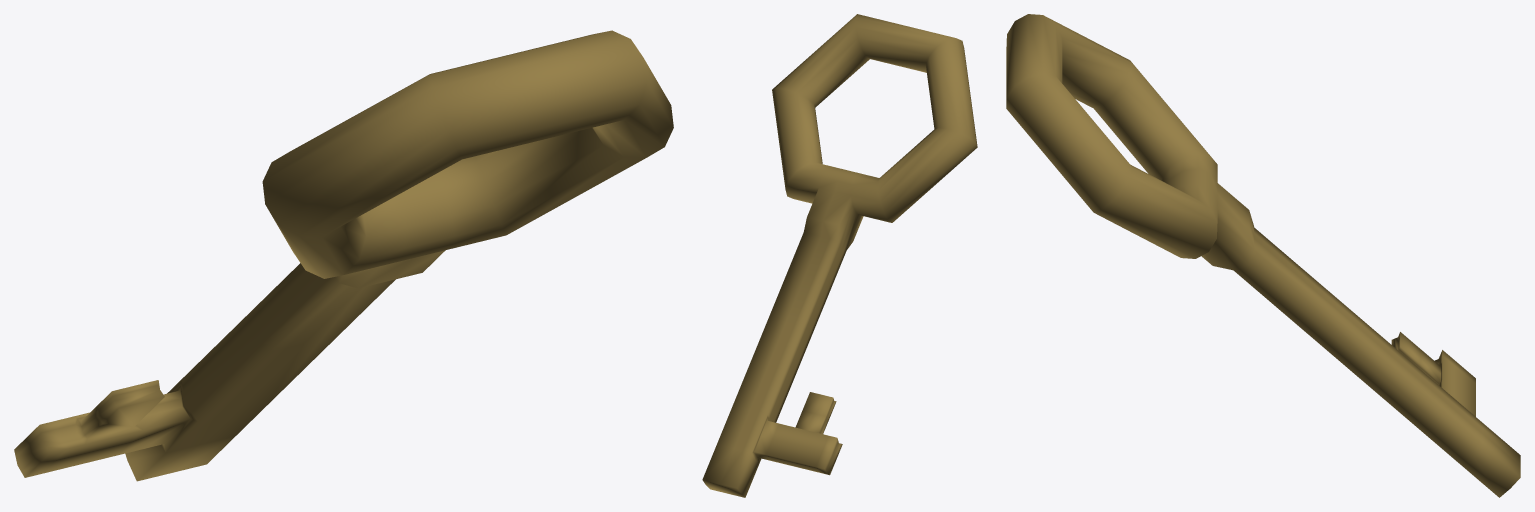
File: Key.glb
3 views of the same model, side by side, from view 1: azimuth 30°, elevation 25°; view 2: azimuth 150°, elevation 25°; view 3: azimuth 270°, elevation 25° (orthographic). The views are drawn at different scales.
Parts seen in each view (by area): view 1: Torus; view 2: Torus; view 3: Torus.
Boxes of the visible parts, left/top/right/bottom form: Torus: left=14, top=30, right=673, bottom=481; Torus: left=702, top=14, right=977, bottom=497; Torus: left=1006, top=14, right=1520, bottom=497.
Size of the model in its own units: 2.5 by 3.97 by 4.18.
